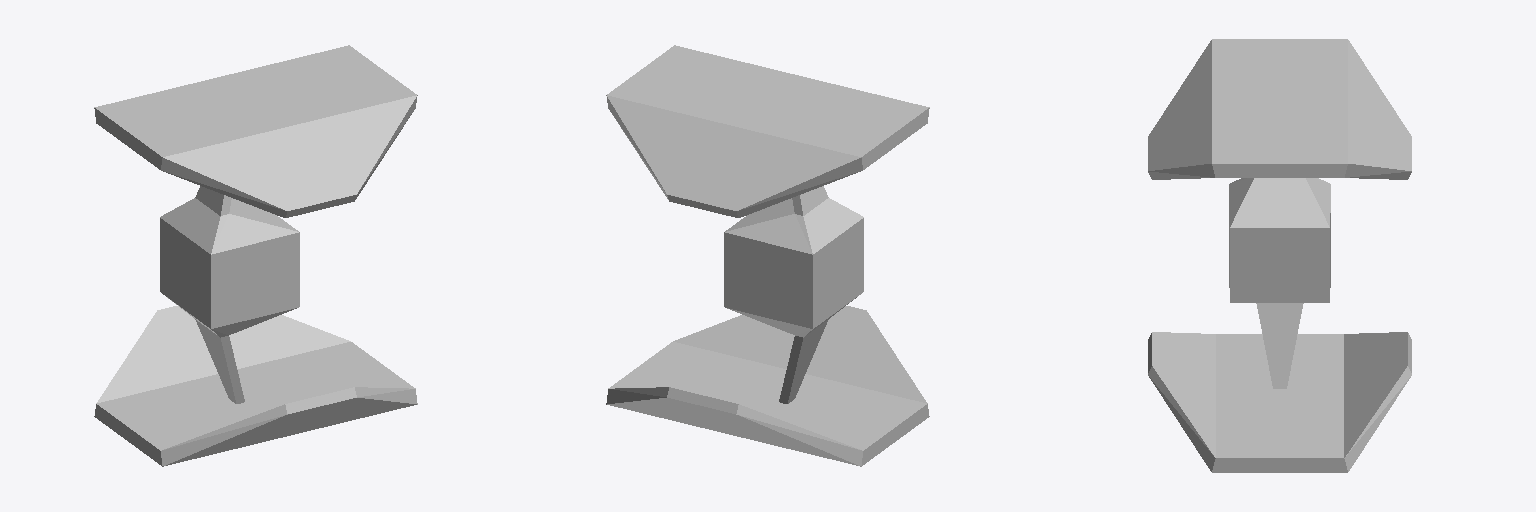
The model's file is spaceship.obj.
The picture shows the model from 3 angles: view 1: azimuth 30°, elevation 25°; view 2: azimuth 150°, elevation 25°; view 3: azimuth 270°, elevation 25°; orthographic projection.
Visible parts, largest first — view 1: Cube; view 2: Cube; view 3: Cube.
Part boxes in pixels (x1,y1,x2,y2): Cube: (94, 45, 417, 466); Cube: (606, 45, 929, 466); Cube: (1148, 39, 1411, 472).
Bounding box in the file's own units: 2.45 × 2.84 × 2.2.